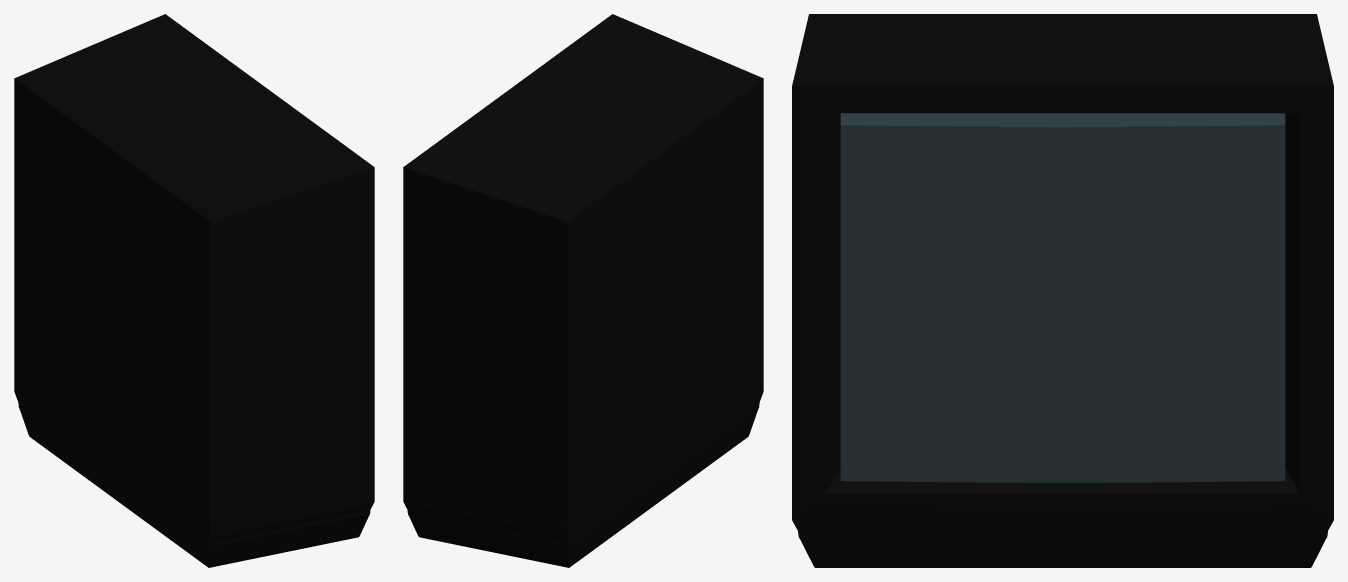
File: Monitor_Small.fbx
3 views of the same model, side by side, from view 1: azimuth 30°, elevation 25°; view 2: azimuth 150°, elevation 25°; view 3: azimuth 270°, elevation 25° (orthographic). The views are drawn at different scales.
Visible parts, largest first — view 1: Moniter_Screen_Small; view 2: Moniter_Screen_Small; view 3: Moniter_Screen_Small.
Part boxes in pixels (x1,y1,x2,y2): Moniter_Screen_Small: (14, 14, 374, 567); Moniter_Screen_Small: (403, 14, 763, 567); Moniter_Screen_Small: (792, 14, 1333, 567).
Size of the model in its own units: 0.2317 by 0.5171 by 0.5227.
Materials: 1 (1 with a texture image).
